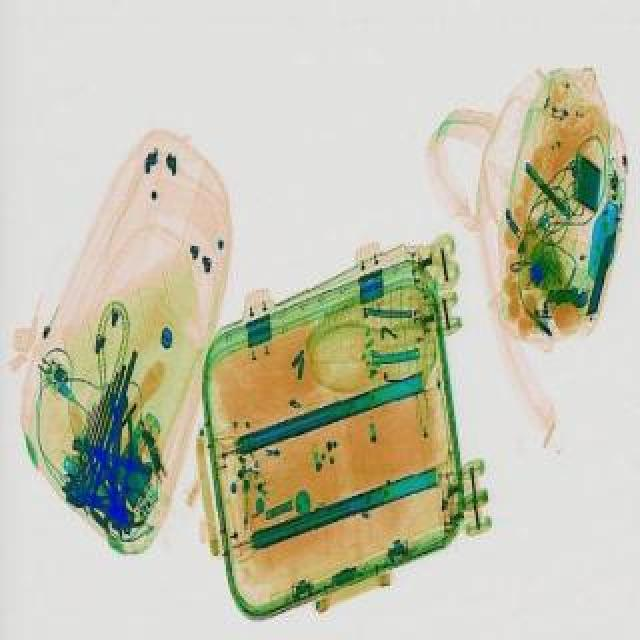scissors: (104, 392, 128, 492)
wrench: (62, 478, 146, 524)
